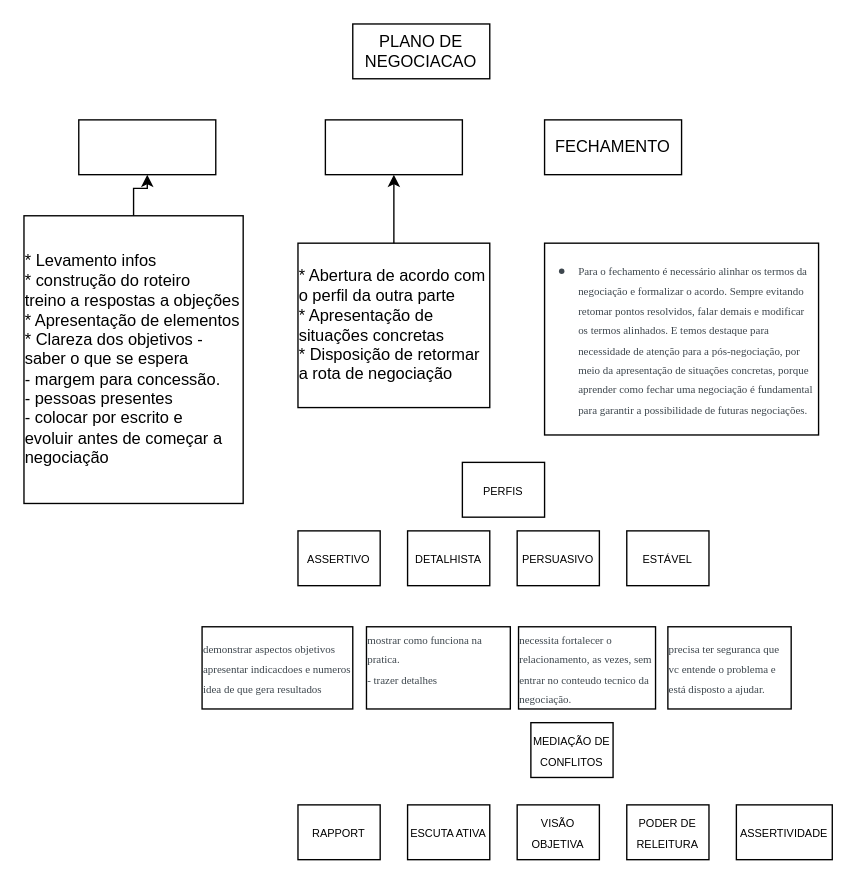
The diagram is 856 pixels wide and 884 high, and some of its shapes have lost their labels. The centre of each missing label's shape, as x and y in pixels:
"NEGOCIANDO" belongs at pixel 393 147.
"PREPARAÇÃO" belongs at pixel 146 147.
